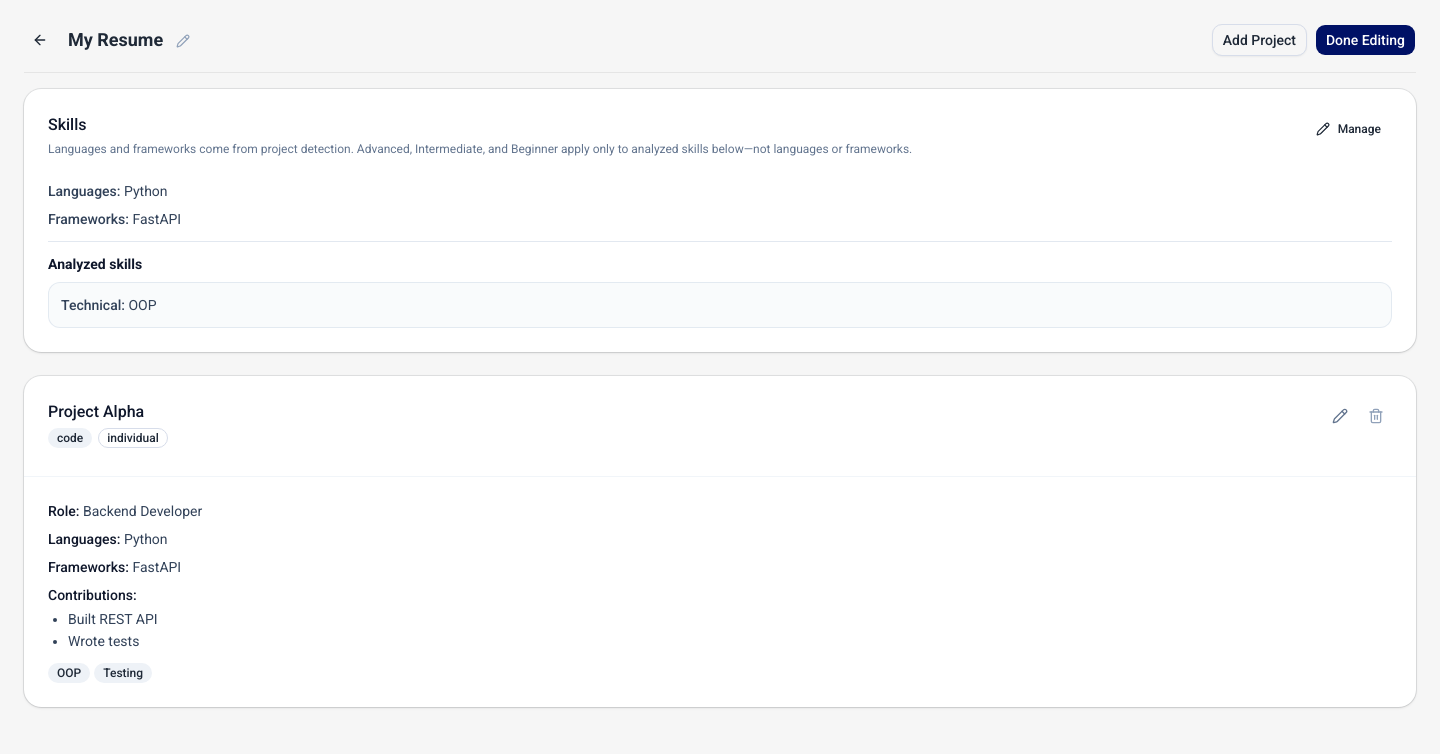
ResumeDetail › leaving edit mode cleans up › collapses open project edit when Done Editing is clicked
expect the text "Project Alpha" is shown: met, box [48,402,144,421]
Click the button named "Edit project". click: (1340, 416)
box: [1324,400,1356,432]
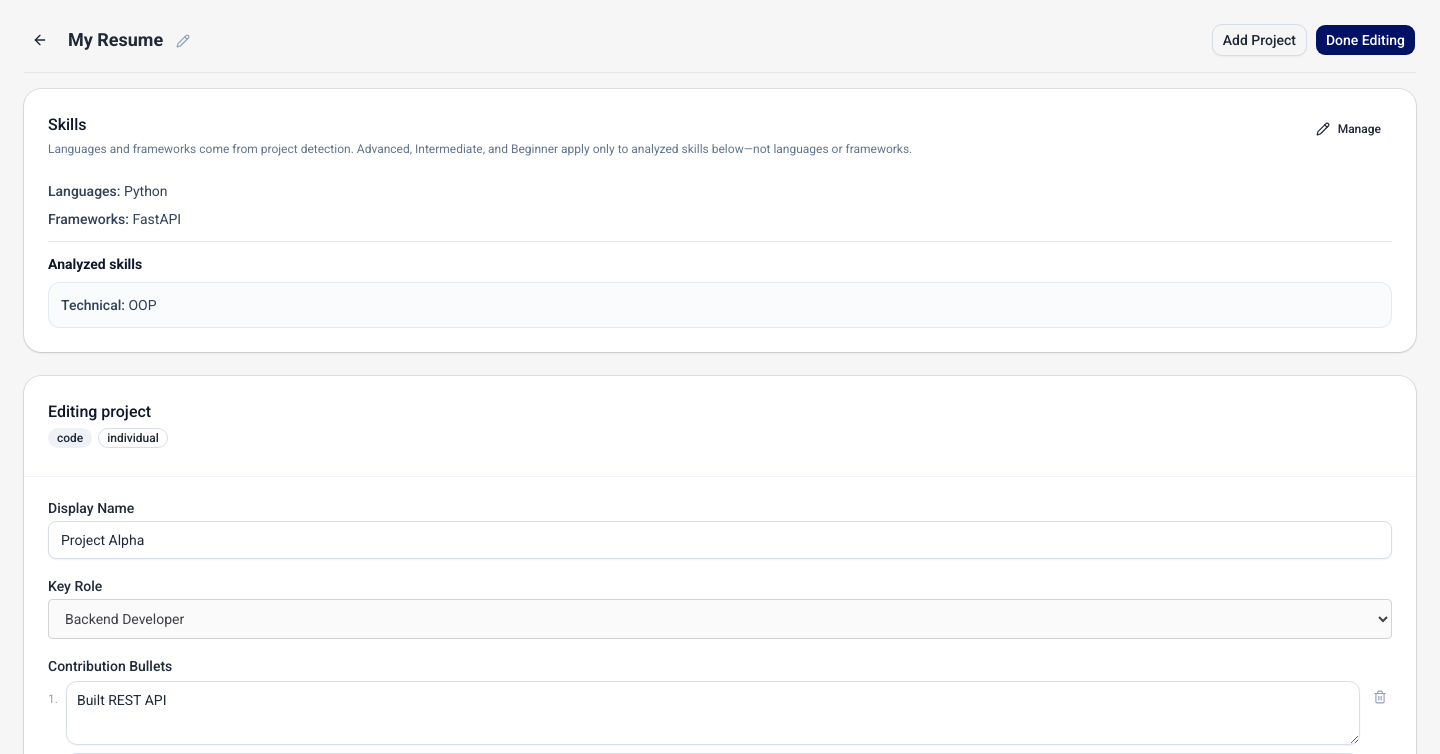
expect the field labelled "Display Name" is shown: met, box [48,521,1392,559]
Click the button "Done Editing". click: (1365, 40)
box: [1315,24,1416,56]
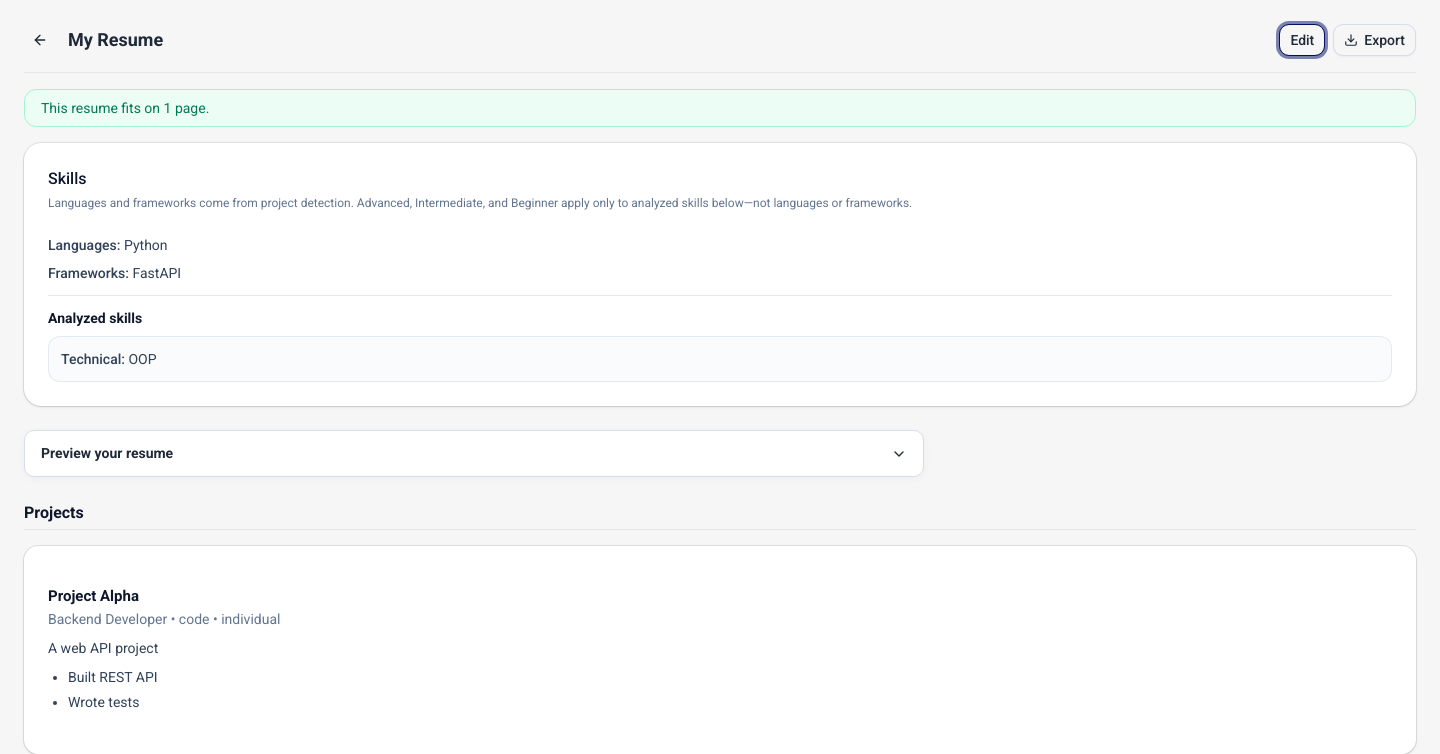
expect the button "Edit" is shown: met, box [1279,24,1325,56]
expect the label labelled "Display Name" is gone: met
